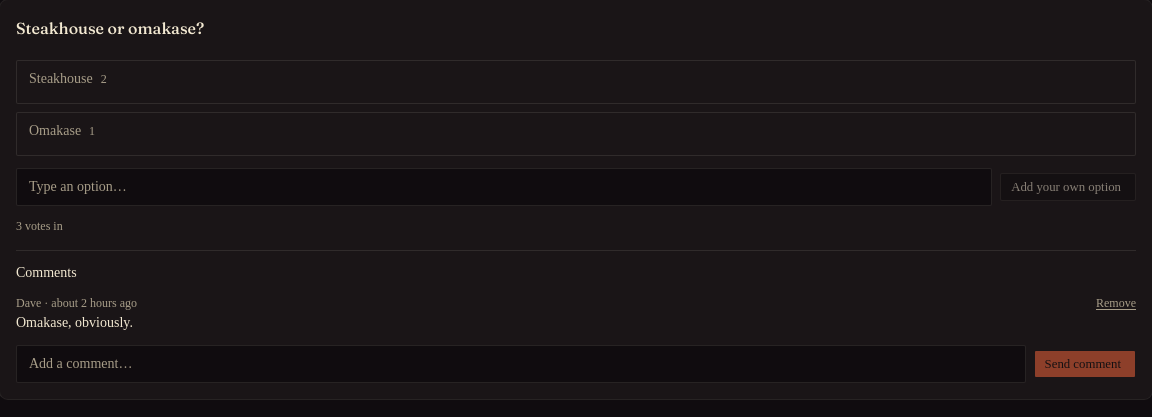
Test case: PollCard comment thread (#620) › deletes a comment on confirm and removes it from view
The width and height of the screenshot is (1152, 417).
Click the button with aria-label "Delete comment" at x=1116, y=303, box [1096,295,1136,311]
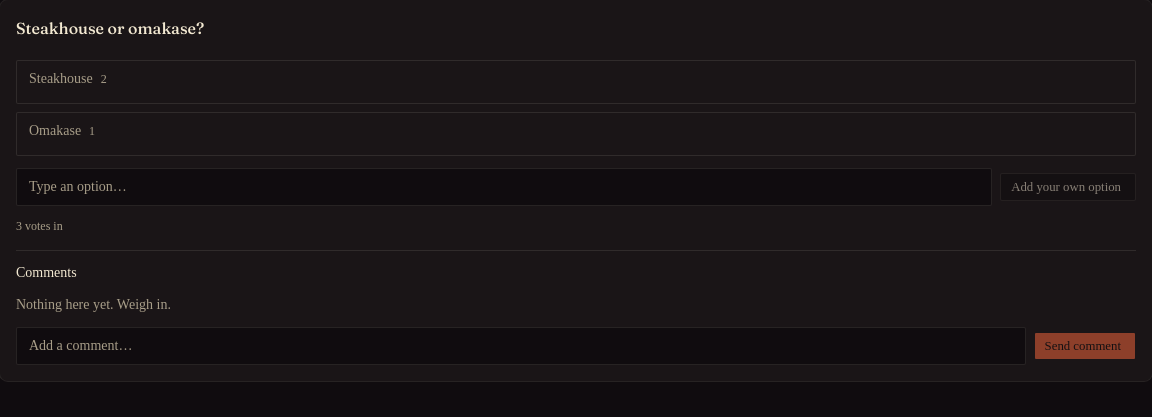
expect the text "Nothing here yet. Weigh in." is shown: met, box [16,297,171,312]
